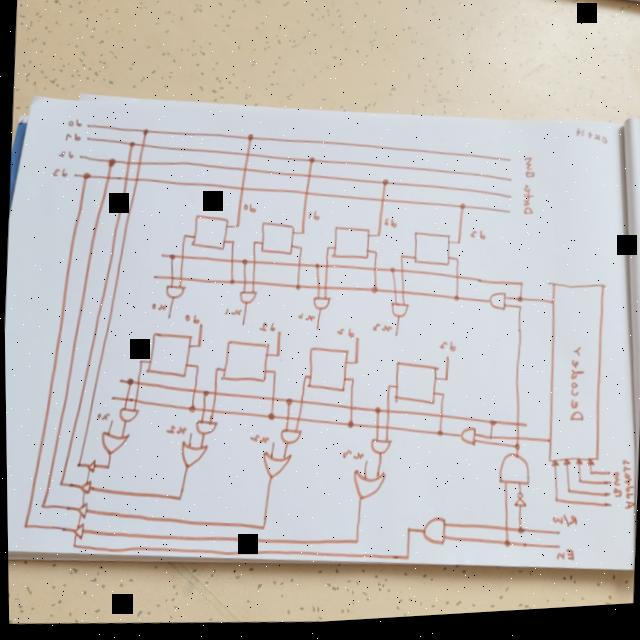crossover: (499, 529, 509, 539), (345, 407, 355, 416), (103, 173, 111, 182), (301, 191, 309, 200), (451, 278, 460, 286), (228, 240, 236, 249), (267, 397, 275, 405), (368, 268, 376, 276), (242, 153, 251, 160), (138, 142, 145, 150), (123, 159, 131, 166), (240, 167, 248, 174), (237, 186, 245, 193), (304, 175, 312, 182), (379, 199, 386, 207), (187, 388, 195, 395), (382, 411, 390, 418), (371, 428, 379, 435), (226, 258, 233, 266), (134, 176, 141, 183), (323, 265, 330, 272), (178, 255, 185, 262), (207, 409, 214, 416), (294, 418, 301, 425), (121, 176, 129, 182), (389, 293, 397, 299), (511, 440, 519, 446), (136, 159, 142, 166), (398, 271, 404, 278), (239, 281, 246, 287), (133, 380, 140, 386), (297, 401, 304, 407), (283, 417, 290, 423), (436, 417, 443, 423), (399, 293, 405, 299), (315, 287, 321, 293), (249, 281, 255, 287), (168, 276, 174, 282), (131, 397, 137, 403), (121, 396, 127, 402), (211, 392, 217, 398), (199, 407, 205, 413), (383, 428, 389, 434), (251, 260, 257, 266), (295, 264, 301, 270), (176, 276, 182, 281), (323, 286, 327, 292)
junction: (264, 413, 276, 425), (499, 542, 510, 554), (105, 156, 116, 168), (19, 518, 30, 530), (80, 170, 91, 182), (344, 422, 355, 433), (244, 134, 254, 145), (379, 180, 389, 191), (306, 157, 316, 168), (282, 398, 292, 409), (185, 404, 195, 414), (292, 284, 302, 294), (36, 500, 46, 510), (513, 531, 523, 540), (141, 127, 150, 137), (371, 410, 381, 419), (450, 297, 459, 307), (311, 263, 320, 273), (200, 390, 209, 400), (56, 479, 65, 488), (167, 253, 176, 262), (239, 260, 247, 269), (369, 289, 378, 297), (487, 423, 495, 432), (350, 540, 358, 549), (127, 141, 136, 149), (402, 529, 410, 538), (551, 501, 559, 510), (513, 425, 522, 433), (249, 241, 258, 249), (511, 447, 520, 455), (123, 379, 132, 387), (227, 279, 235, 287), (174, 495, 182, 503), (434, 433, 442, 441), (401, 558, 409, 566), (387, 270, 395, 278), (257, 525, 265, 533), (514, 301, 522, 309), (73, 460, 81, 468), (563, 493, 571, 501), (233, 224, 240, 232), (297, 246, 304, 254), (374, 235, 381, 243), (180, 233, 187, 241), (514, 309, 521, 317), (517, 285, 524, 292), (103, 463, 110, 470), (193, 364, 199, 372), (442, 380, 448, 387), (453, 261, 460, 267), (270, 371, 277, 377), (275, 331, 281, 338), (298, 233, 305, 239), (574, 484, 581, 490), (325, 247, 331, 254), (398, 257, 404, 264), (274, 354, 280, 360), (196, 344, 202, 350), (352, 362, 358, 368), (438, 396, 444, 402), (372, 253, 378, 259), (348, 380, 354, 386), (456, 244, 462, 250), (136, 359, 142, 365), (486, 440, 492, 446), (301, 376, 307, 382), (212, 368, 218, 374), (587, 475, 592, 481)
terminal: (502, 160, 512, 171), (504, 179, 514, 190), (149, 272, 158, 283), (504, 196, 514, 205), (76, 153, 84, 162), (236, 321, 245, 329), (352, 338, 360, 347), (441, 358, 450, 366), (311, 327, 319, 335), (602, 497, 610, 505), (503, 213, 512, 220), (603, 507, 611, 514), (552, 548, 559, 556), (604, 485, 611, 492), (553, 536, 560, 543), (86, 122, 92, 130), (85, 135, 91, 143), (72, 171, 78, 179), (158, 252, 164, 260), (196, 323, 204, 329), (392, 334, 399, 340), (604, 476, 610, 483), (361, 461, 368, 467), (268, 442, 275, 448), (115, 378, 121, 385), (108, 394, 114, 401), (165, 314, 171, 320), (186, 432, 192, 438), (107, 418, 113, 424)
text: (564, 349, 587, 431), (518, 160, 537, 222), (618, 463, 633, 517), (548, 516, 577, 535), (609, 471, 623, 508), (338, 450, 364, 464), (246, 434, 270, 449), (369, 324, 393, 338), (164, 424, 188, 438), (437, 342, 456, 358), (240, 201, 258, 217), (554, 553, 573, 568), (335, 328, 354, 343), (295, 313, 315, 327), (468, 232, 487, 246), (64, 130, 83, 144), (222, 307, 242, 320), (257, 322, 274, 336), (304, 210, 321, 224), (50, 166, 68, 179), (56, 148, 74, 161), (148, 302, 167, 314), (66, 117, 84, 129), (94, 410, 110, 423), (383, 220, 397, 234), (182, 314, 195, 326)
